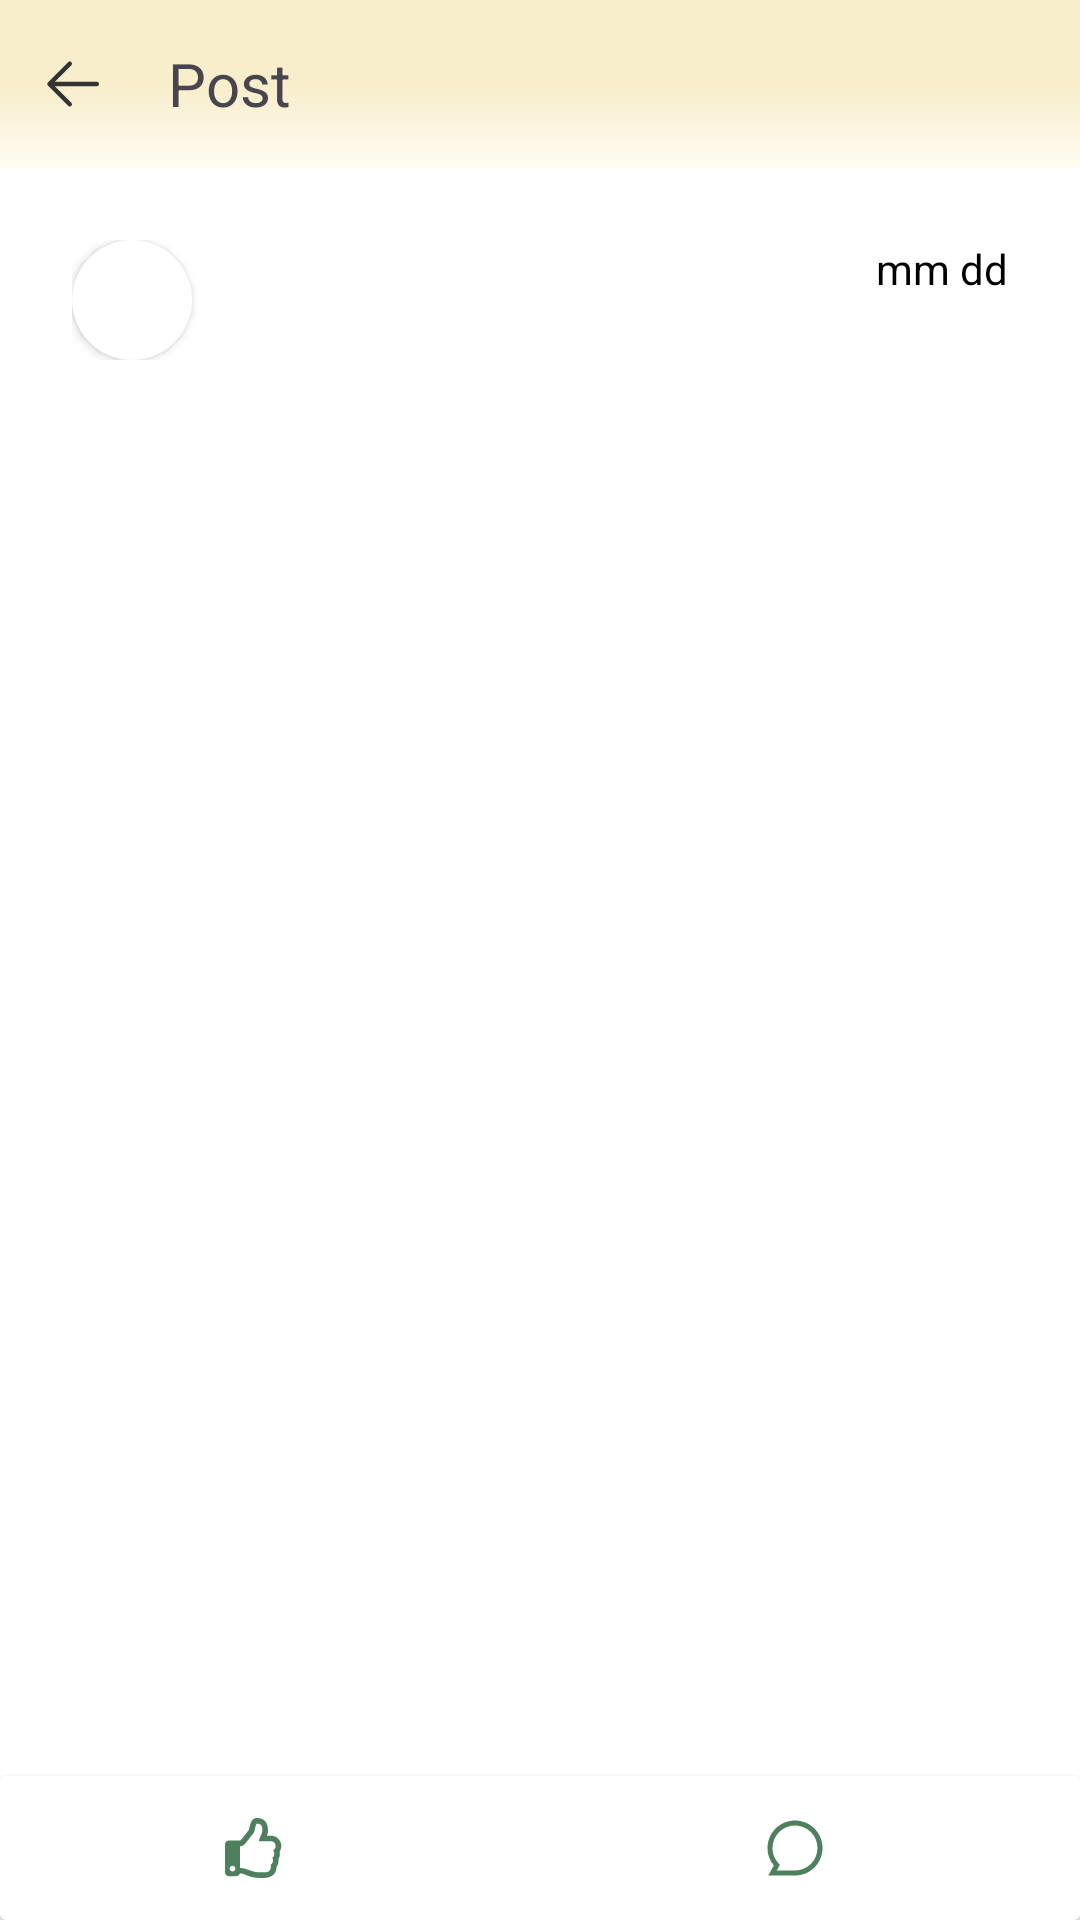

Icons on this 1080w x 1920h Android screen, each with the point to tap as (x,y):
msg bubble: (795,1848)
thumbs up: (253,1848)
